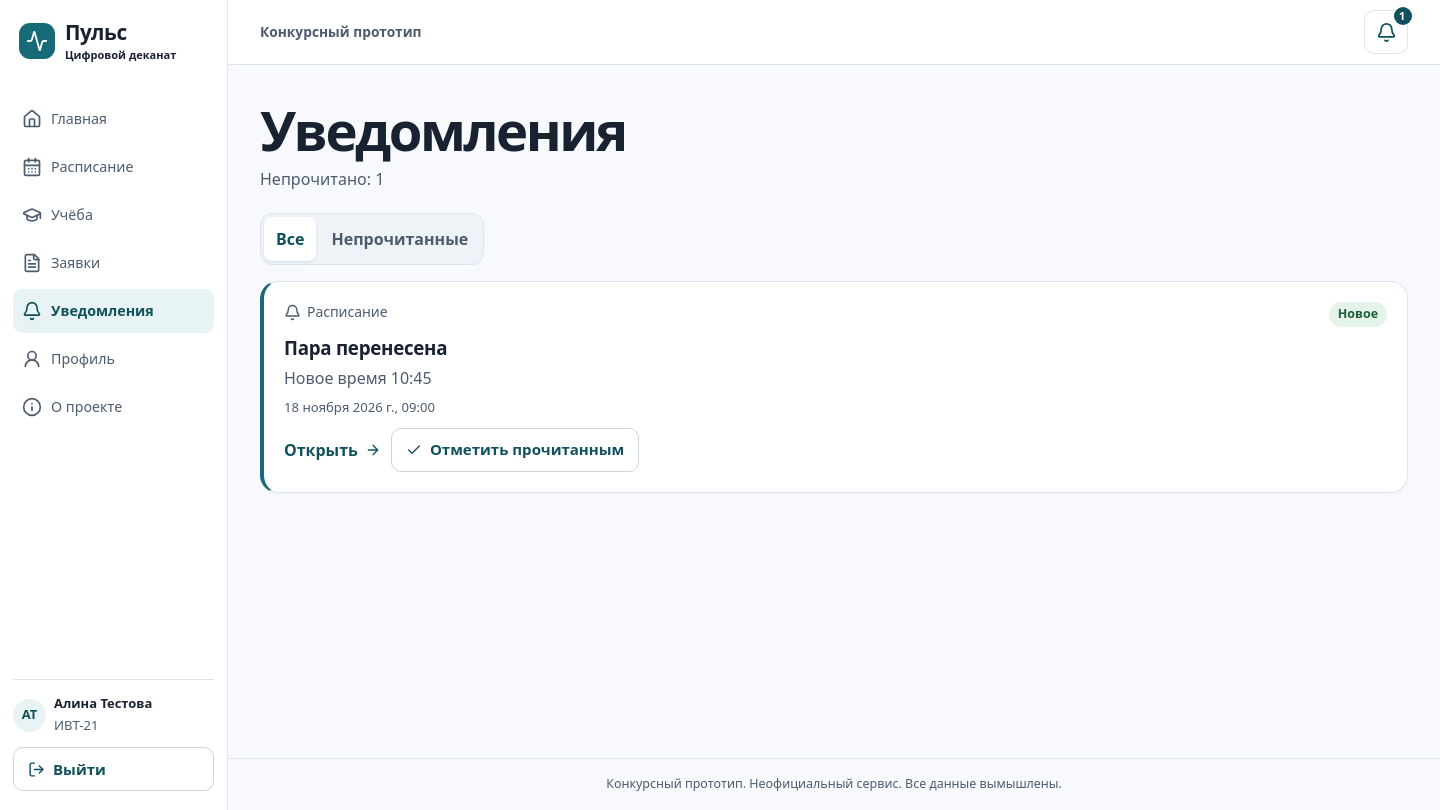
Заявки и уведомления › отмечает уведомление прочитанным, обновляет счётчик и очищает непрочитанное
Expected: the heading "Пара перенесена" is shown, [284,334,447,360]
Click the button "Отметить прочитанным": (515, 450) [391,428,639,472]
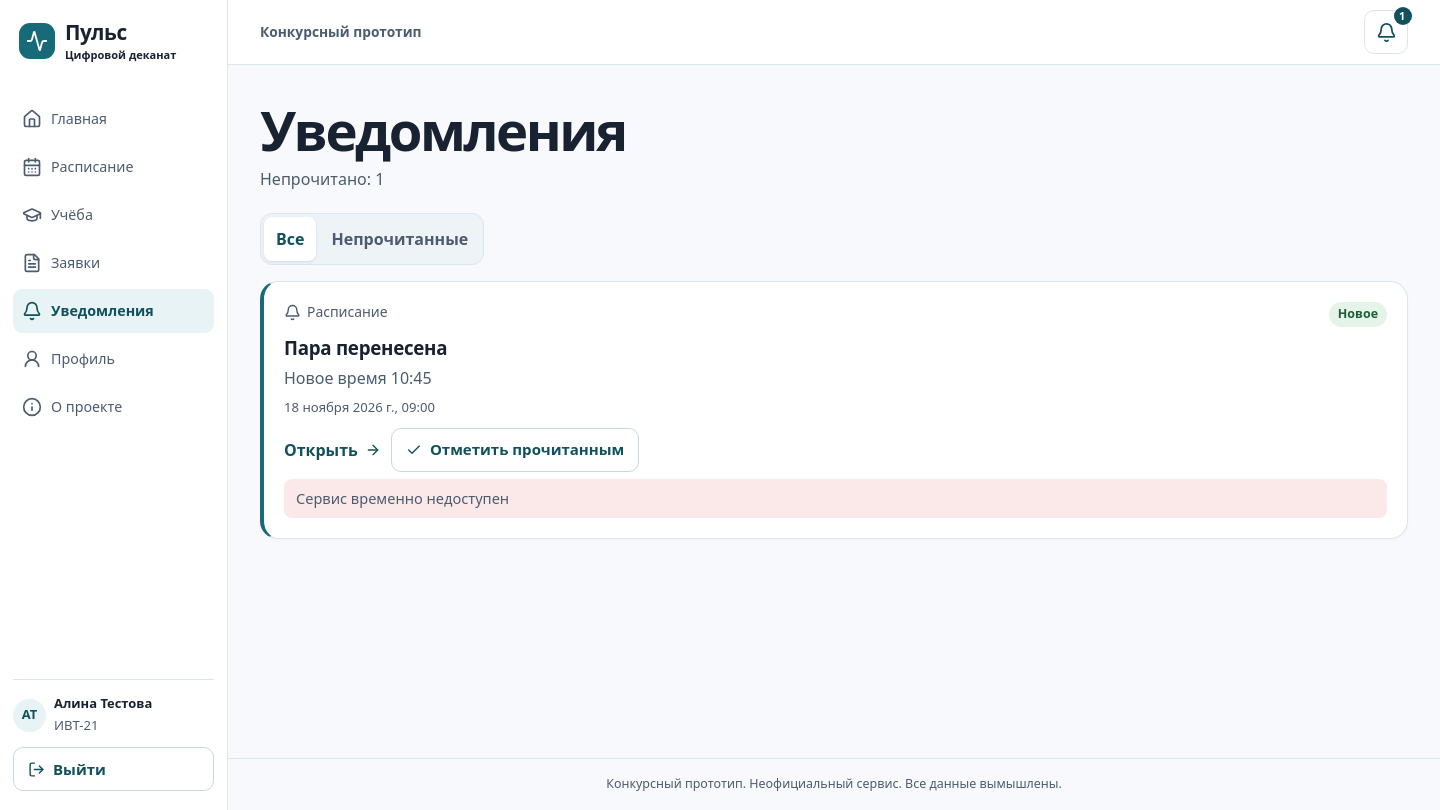
Expected: the message reads "Сервис временно недоступен", [296,488,509,508]
Click the button "Отметить прочитанным": (515, 450) [391,428,639,472]
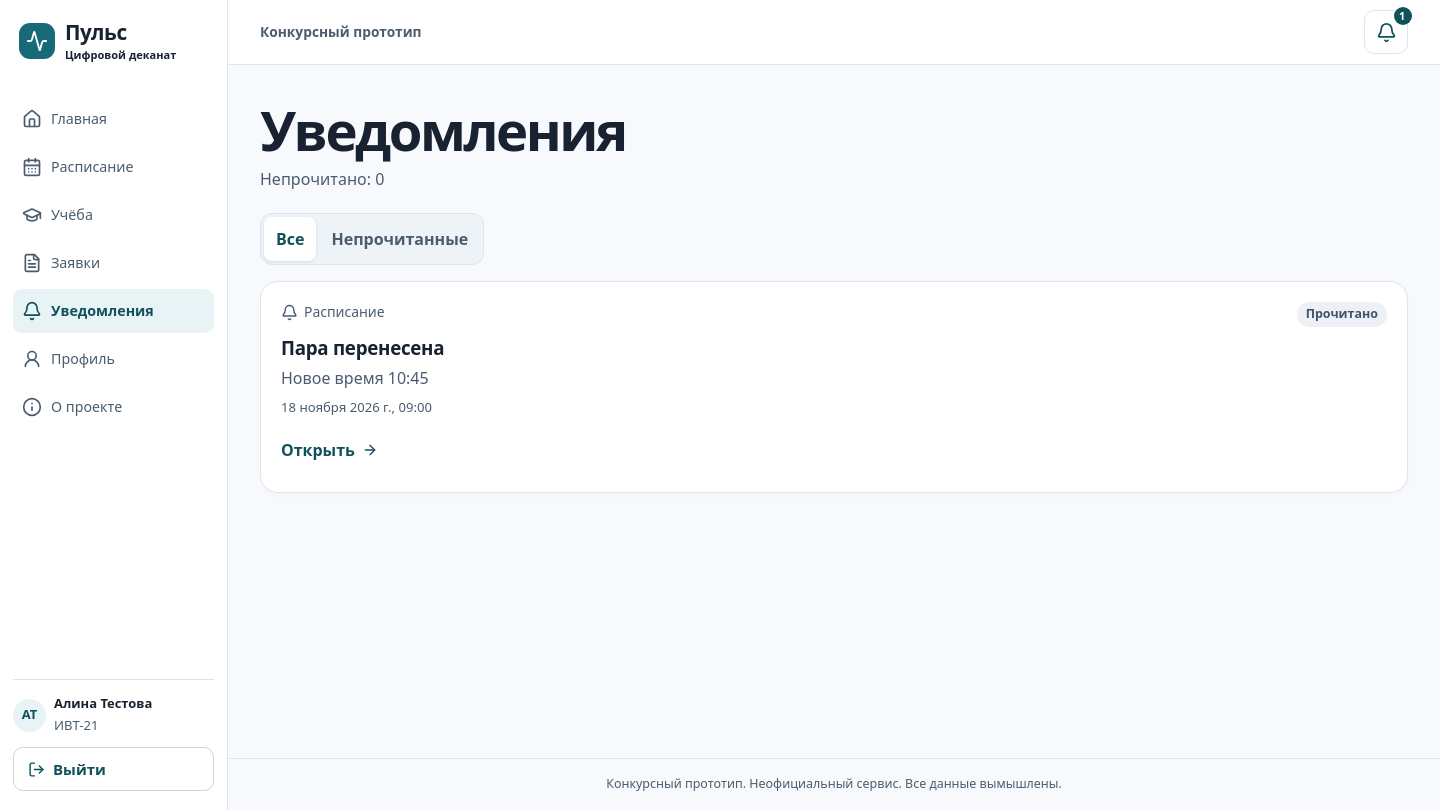
Expected: the text "Прочитано" is shown, [1297,302,1387,326]
Expected: the text "Непрочитано: 0" is shown, [260,168,384,190]
Click the button "Непрочитанные": (400, 239) [319,217,480,261]
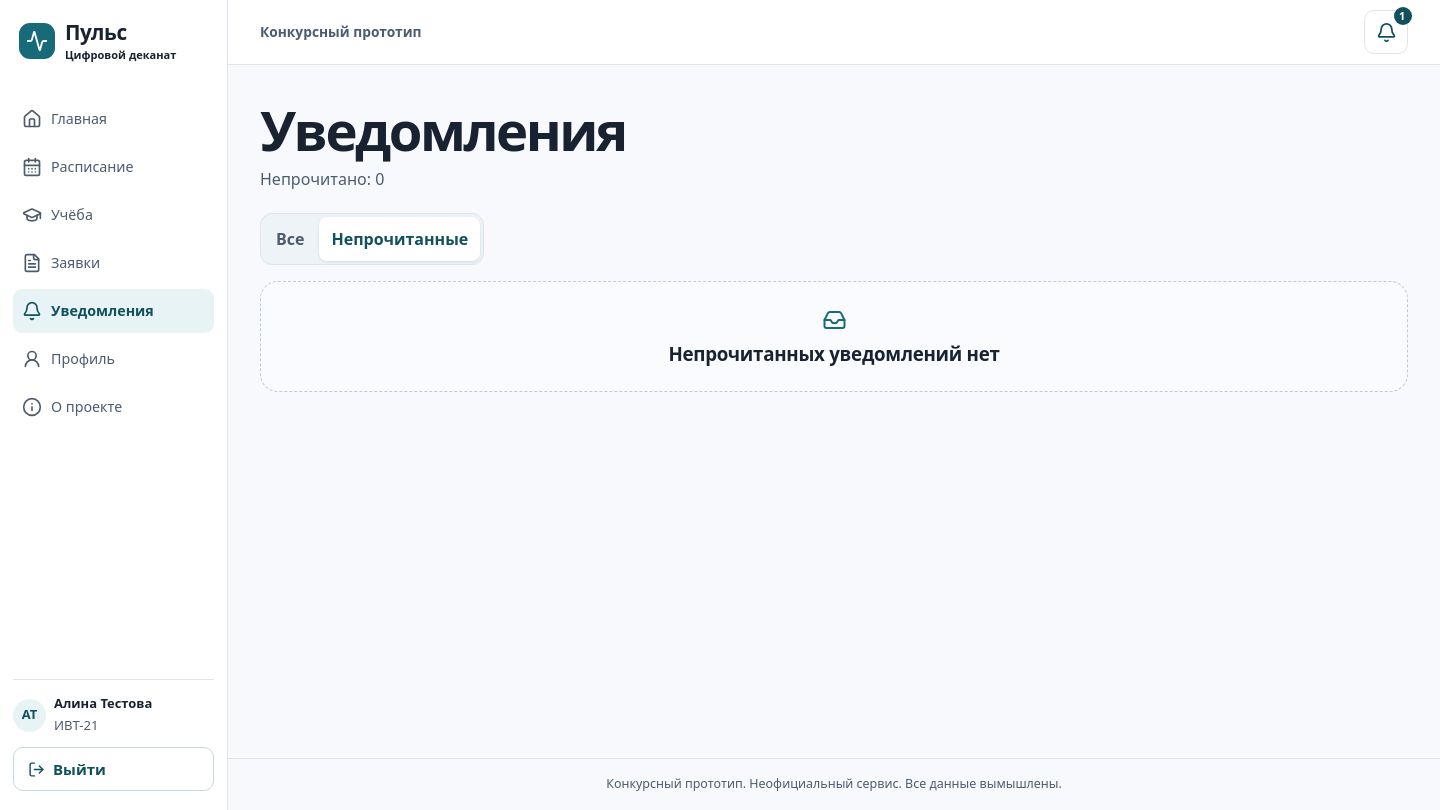
Expected: the heading "Непрочитанных уведомлений нет" is shown, [668,342,1000,365]
